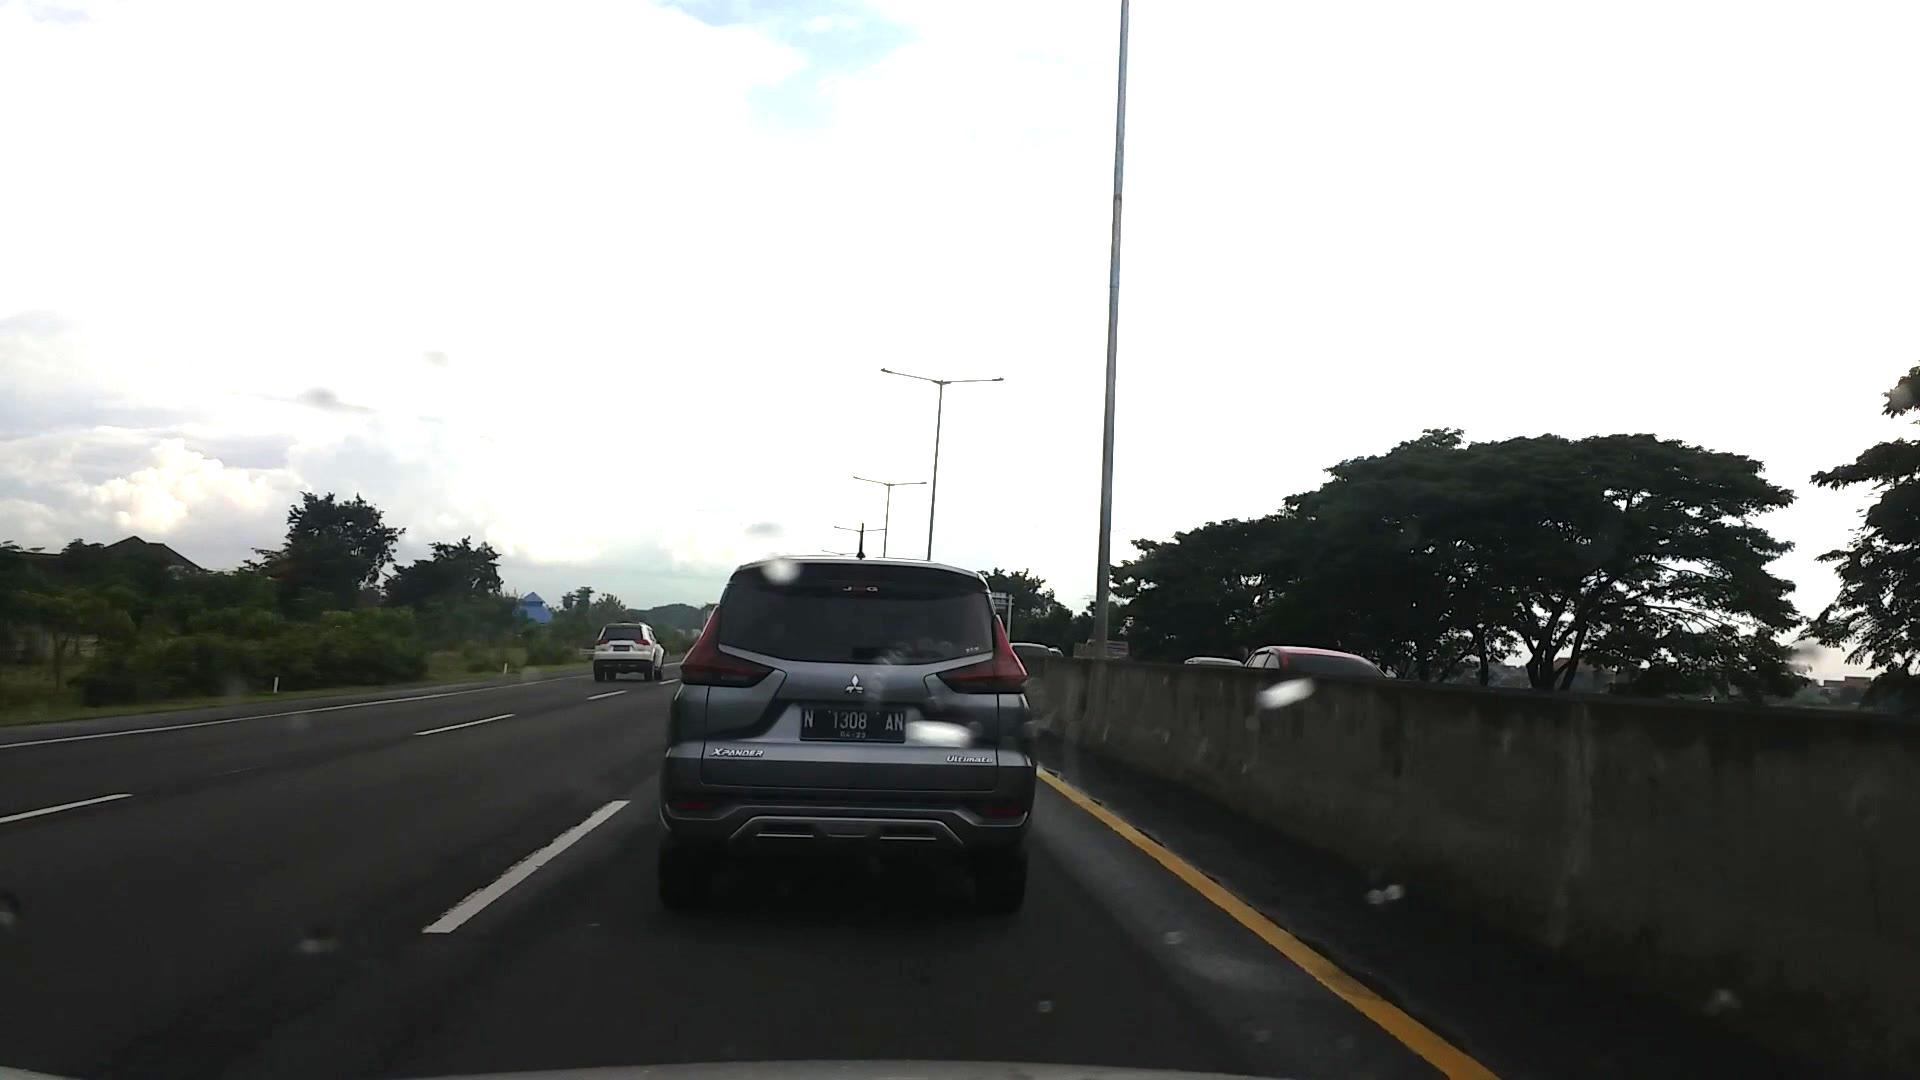plate_positive: (800, 707, 906, 744)
